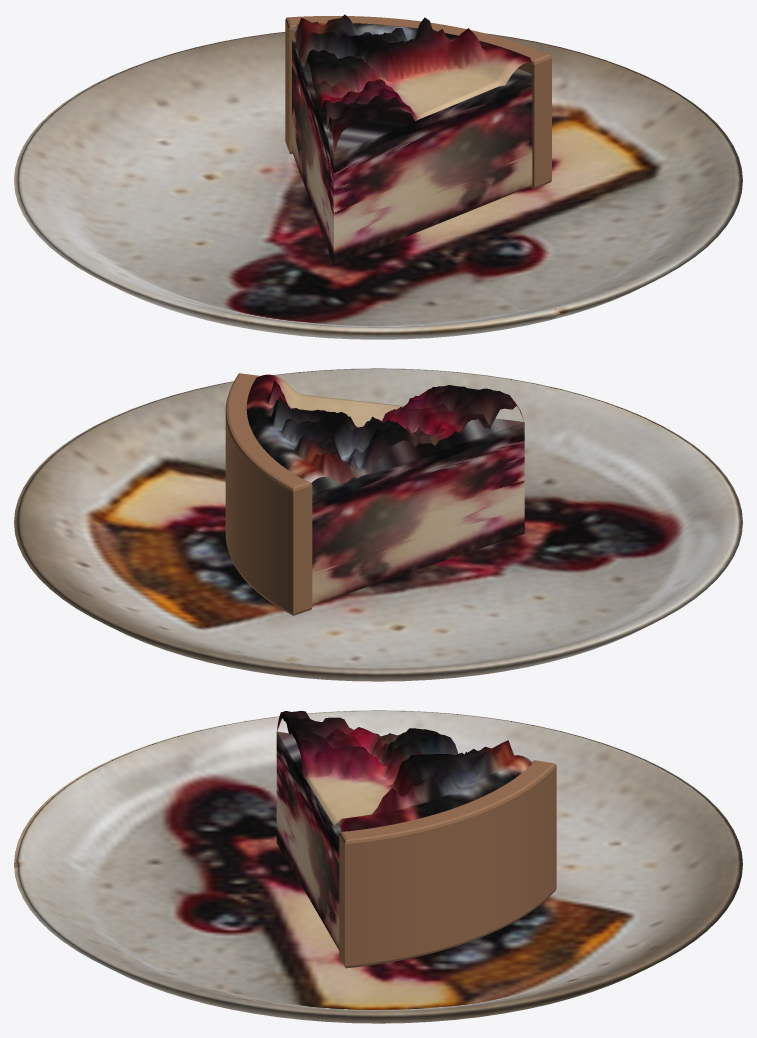
File: blueberry-cheesecake.glb
The picture shows the model from 3 angles, top to bottom: view 1: azimuth 30°, elevation 25°; view 2: azimuth 150°, elevation 25°; view 3: azimuth 270°, elevation 25°; orthographic projection.
Parts seen in each view (by area): view 1: CeramicCoupePlate, CreamyBasqueWedgeSides, PhotoSculptedBlueberryCrown, CaramelizedBasqueBackCrust; view 2: CeramicCoupePlate, CreamyBasqueWedgeSides, PhotoSculptedBlueberryCrown, CaramelizedBasqueBackCrust; view 3: CeramicCoupePlate, CaramelizedBasqueBackCrust, PhotoSculptedBlueberryCrown, CreamyBasqueWedgeSides.
Part boxes in pixels (left/top/right/bottom): CeramicCoupePlate: left=14, top=32, right=742, bottom=339; CreamyBasqueWedgeSides: left=292, top=39, right=532, bottom=265; PhotoSculptedBlueberryCrown: left=292, top=14, right=531, bottom=154; CaramelizedBasqueBackCrust: left=285, top=16, right=551, bottom=188; CeramicCoupePlate: left=14, top=368, right=742, bottom=681; CreamyBasqueWedgeSides: left=311, top=418, right=524, bottom=605; PhotoSculptedBlueberryCrown: left=246, top=374, right=523, bottom=484; CaramelizedBasqueBackCrust: left=225, top=373, right=312, bottom=615; CeramicCoupePlate: left=14, top=710, right=742, bottom=1023; CaramelizedBasqueBackCrust: left=339, top=760, right=556, bottom=968; PhotoSculptedBlueberryCrown: left=277, top=711, right=533, bottom=831; CreamyBasqueWedgeSides: left=276, top=731, right=341, bottom=950.
Bounding box in the file's own units: 3.44 × 0.871 × 3.44.
4 materials, 3 textured.
